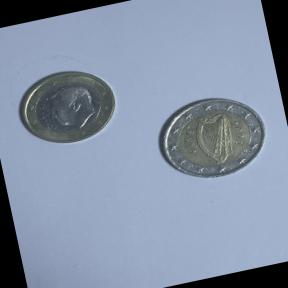coin: (148, 82, 276, 192), (6, 58, 128, 158)
